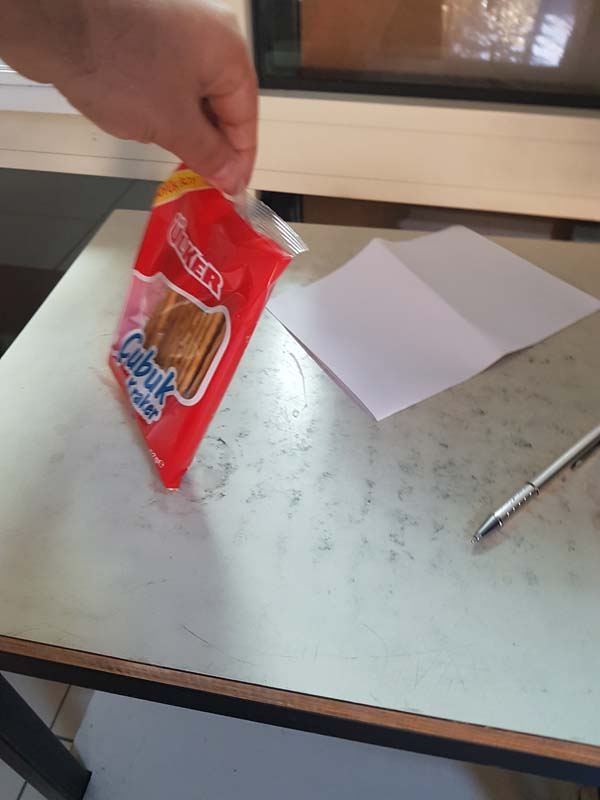eticubuk: (109, 149, 309, 488)
